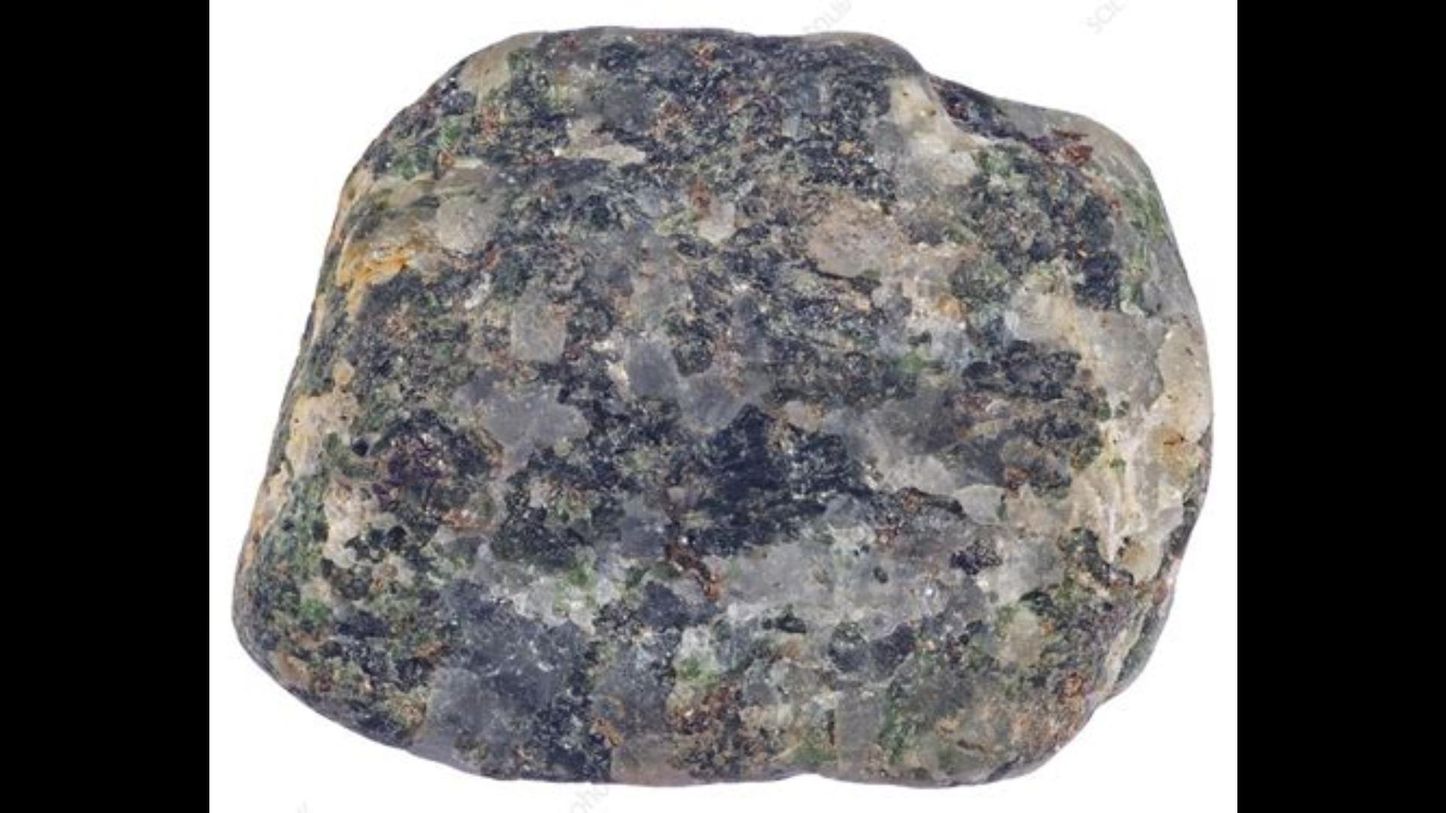rock: (241, 37, 1202, 778)
